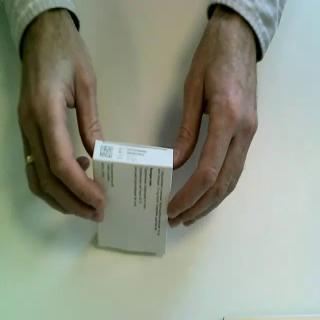dolcontin10mg: (92, 138, 176, 260)
